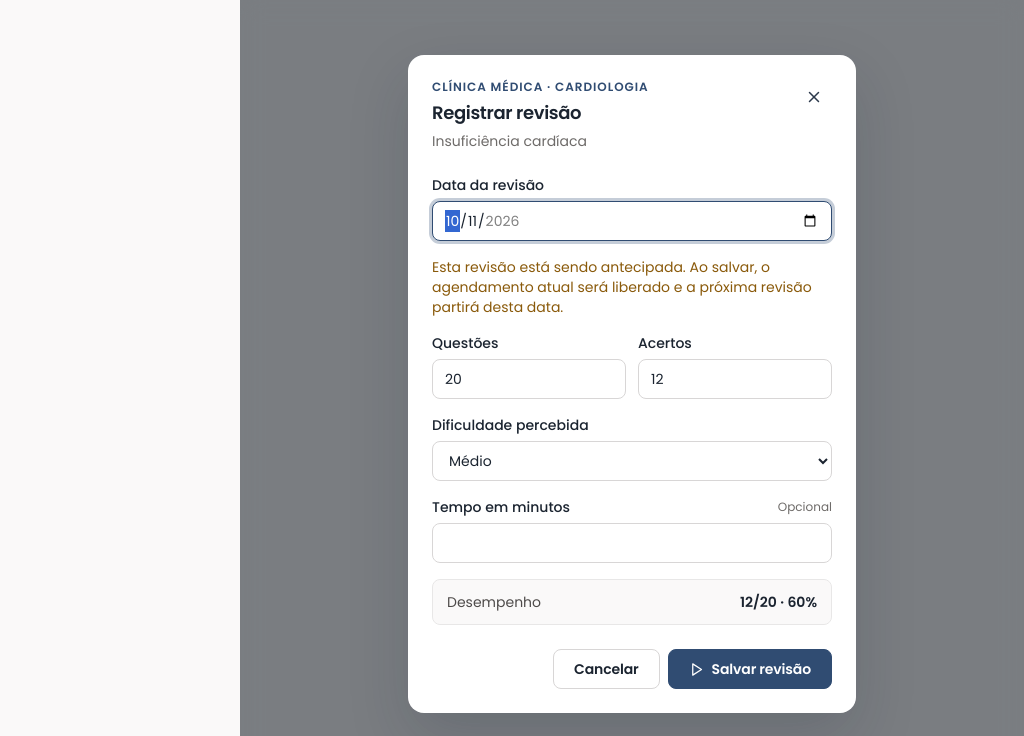
Scenario: ReviewModal › warns that fewer than 20 questions switch to the difficulty-based interval
This screenshot has width=1024, height=736.
Check: the text "menos de 20 questões" is not shown
Replace the text in the number field labelled "Questões" with "19". click: {"x": 529, "y": 379}
box: x1=432 y1=359 x2=626 y2=399
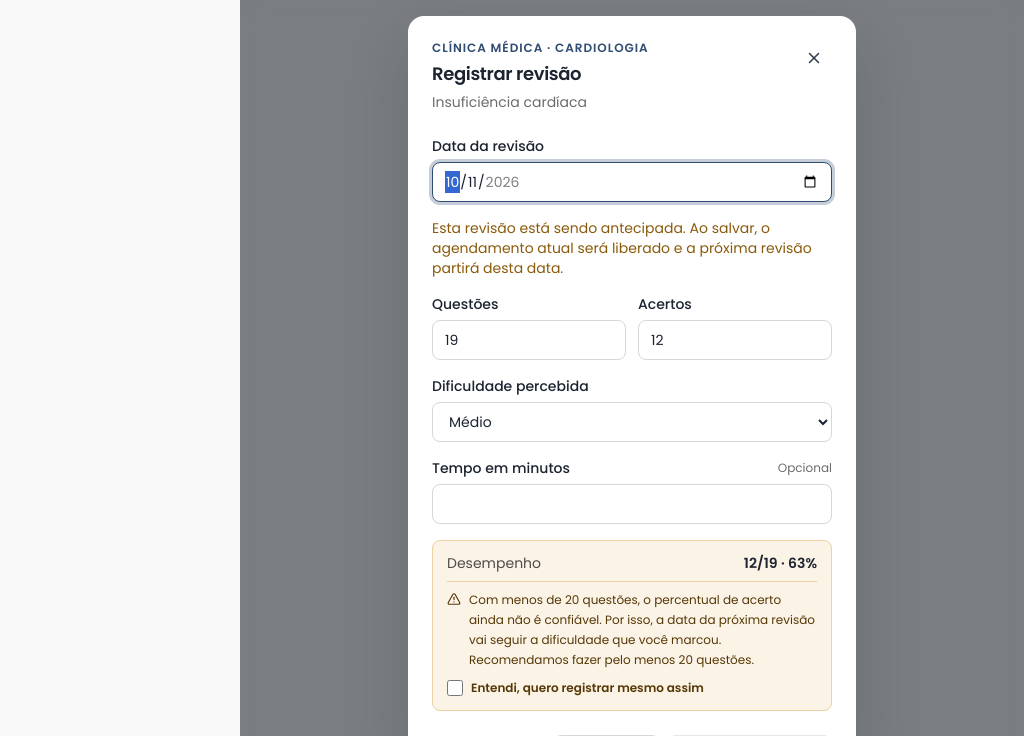
Check: the text "menos de 20 questões" is shown, box x1=469 y1=591 x2=815 y2=668
